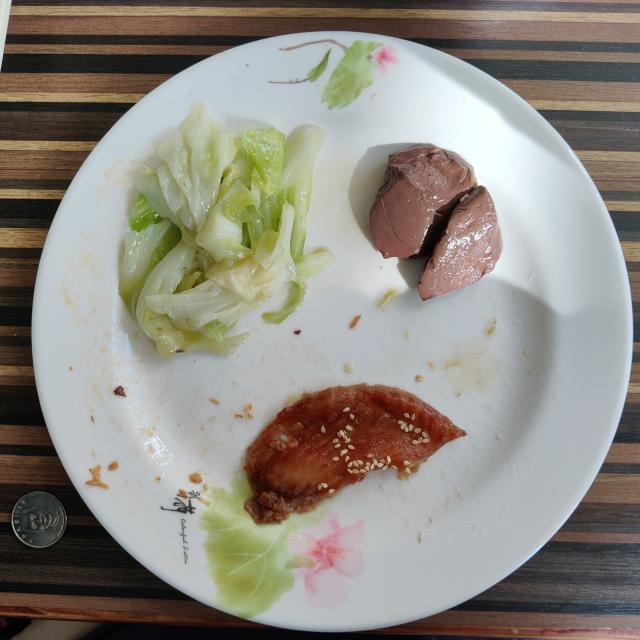Kabayaki sea bream fillet: (244, 384, 466, 524)
cabbage: (119, 102, 334, 360)
coin: (11, 491, 66, 548)
pig blood curd: (370, 144, 502, 300)
